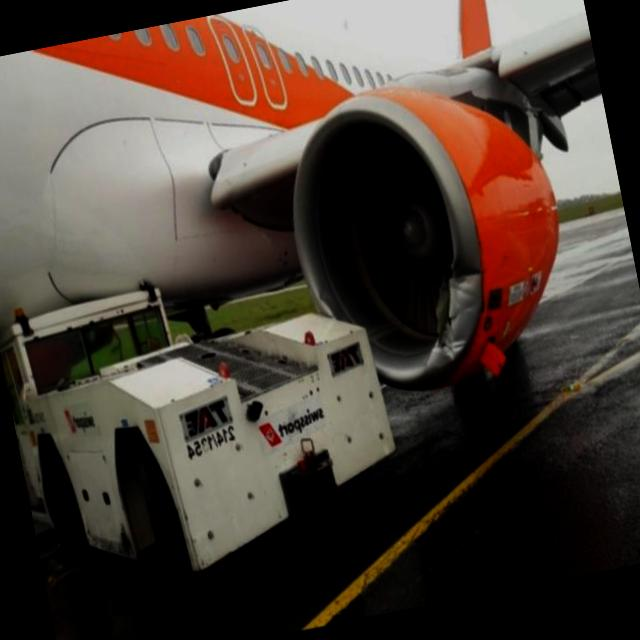crack: (421, 266, 471, 349)
dent: (300, 280, 340, 322), (434, 329, 474, 365), (450, 268, 486, 306)
